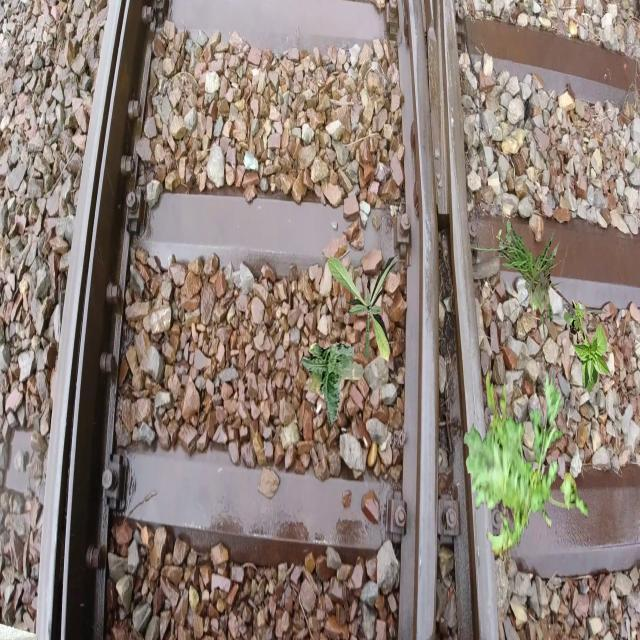Plant: (464, 368, 589, 564), (463, 225, 606, 344), (327, 255, 398, 363), (301, 343, 364, 426), (564, 299, 612, 394), (496, 219, 524, 260), (525, 272, 551, 314)
